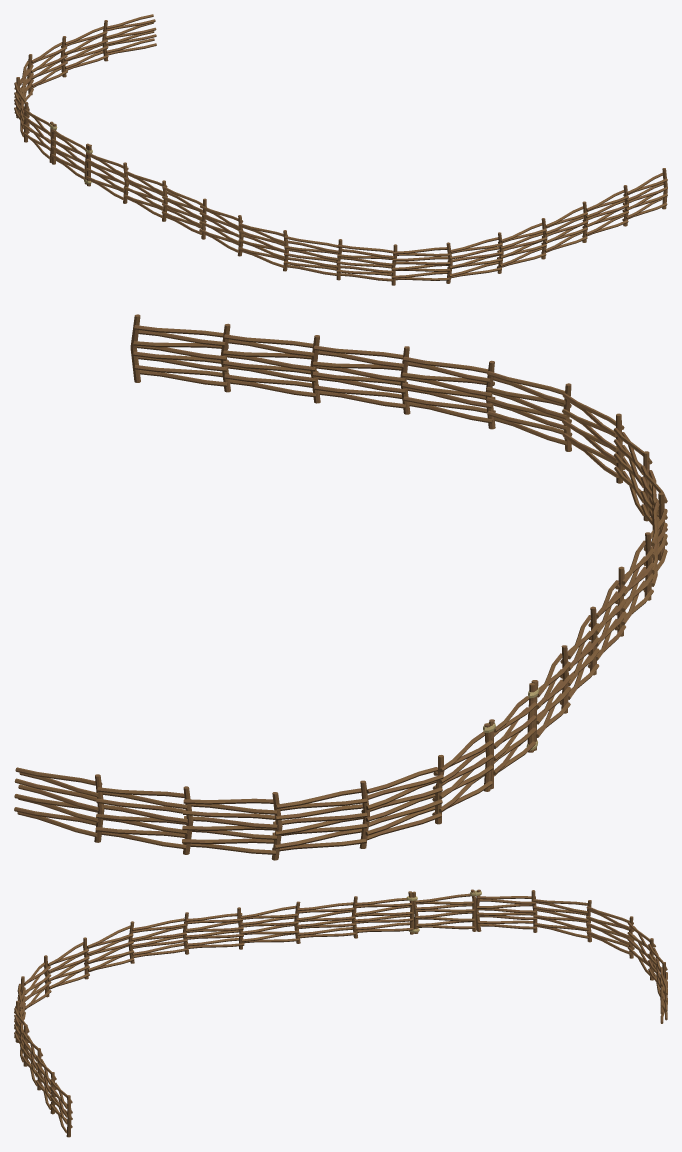
Rendered from Fences1.gltf.
3 views of the same model, one above another, from view 1: azimuth 30°, elevation 25°; view 2: azimuth 150°, elevation 25°; view 3: azimuth 270°, elevation 25° (orthographic). The views are drawn at different scales.
Parts seen in each view (by area): view 1: Fence2.003, Fence1.011, Fence2.002, Fence1, Fence1.012, Fence1.008, Fence1.013, Fence1.001, Fence2.001, Fence1.014, Fence1.015, Fence1.016 (+8 smaller); view 2: Fence1.016, Fence1.002, Fence1.014, Fence1.015, Fence1.003, Fence1.001, Fence1.013, Fence1, Fence2, Fence1.012, Fence1.011, Fence1.005 (+8 smaller); view 3: FenceGate, Fence1.005, Fence1.019, Fence1.006, Fence1.007, Fence2.001, Fence1.008, Fence2, Fence2.002, Fence1.003, Fence2.003, Fence1.016 (+7 smaller).
Part boxes in pixels (<box>): Fence2.003: <box>337,244,397,285</box>; Fence1.011: <box>392,242,452,283</box>; Fence2.002: <box>283,236,342,280</box>; Fence1: <box>102,14,156,61</box>; Fence1.012: <box>447,232,503,278</box>; Fence1.008: <box>238,223,288,271</box>; Fence1.013: <box>497,218,547,268</box>; Fence1.001: <box>60,26,108,77</box>; Fence2.001: <box>161,186,206,239</box>; Fence1.014: <box>541,201,588,253</box>; Fence1.015: <box>582,185,628,236</box>; Fence1.016: <box>622,168,667,221</box>; Fence1.016: <box>130,314,229,386</box>; Fence1.002: <box>182,792,282,860</box>; Fence1.014: <box>310,335,408,408</box>; Fence1.015: <box>220,323,318,397</box>; Fence1.003: <box>272,780,369,851</box>; Fence1.001: <box>95,786,193,854</box>; Fence1.013: <box>400,346,495,423</box>; Fence1: <box>14,767,104,842</box>; Fence2: <box>361,755,444,840</box>; Fence1.012: <box>485,360,572,445</box>; Fence1.011: <box>562,383,624,477</box>; Fence1.005: <box>432,723,493,815</box>; FenceGate: <box>406,889,476,933</box>; Fence1.005: <box>475,889,536,931</box>; Fence1.019: <box>294,901,355,943</box>; Fence1.006: <box>351,896,413,938</box>; Fence1.007: <box>183,912,244,954</box>; Fence2.001: <box>237,905,299,949</box>; Fence1.008: <box>128,918,187,963</box>; Fence2: <box>531,890,591,938</box>; Fence2.002: <box>83,925,134,979</box>; Fence1.003: <box>586,900,634,954</box>; Fence2.003: <box>43,942,89,997</box>; Fence1.016: <box>50,1079,72,1137</box>.
Bounding box in the file's own units: 10.43 × 0.9747 × 13.79.
Materials: 5 (5 with a texture image).
